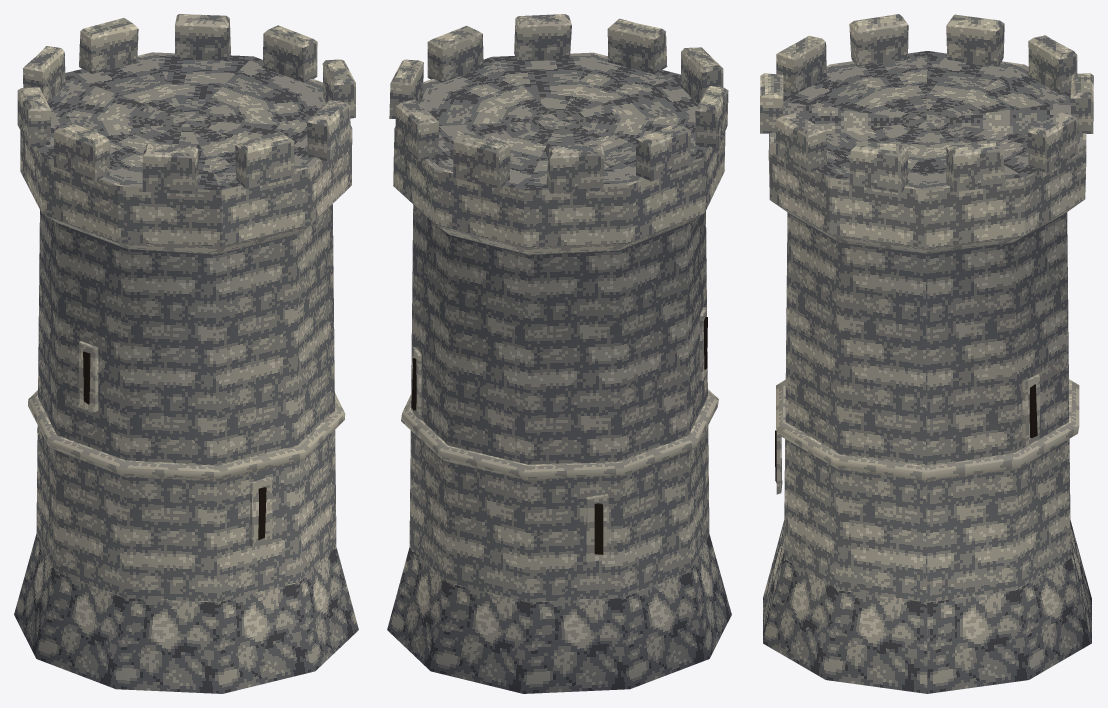
The model's file is cst.tower_round.glb.
3 renders of one model, left to right at view 1: azimuth 30°, elevation 25°; view 2: azimuth 150°, elevation 25°; view 3: azimuth 270°, elevation 25°, orthographic.
Parts seen in each view (by area): view 1: kit_drum, kit_top, kit_detail; view 2: kit_drum, kit_top, kit_detail; view 3: kit_drum, kit_top, kit_detail.
Boxes of the visible parts, <box> form: kit_drum: <box>14,204,358,693</box>; kit_top: <box>17,14,355,254</box>; kit_detail: <box>28,341,345,546</box>; kit_drum: <box>387,205,731,693</box>; kit_top: <box>389,14,728,254</box>; kit_detail: <box>401,307,718,562</box>; kit_drum: <box>763,212,1091,693</box>; kit_top: <box>760,14,1093,253</box>; kit_detail: <box>775,374,1079,494</box>.
Bounding box in the file's own units: 6.9 × 11.85 × 6.66.
Materials: 5 (5 with a texture image).
